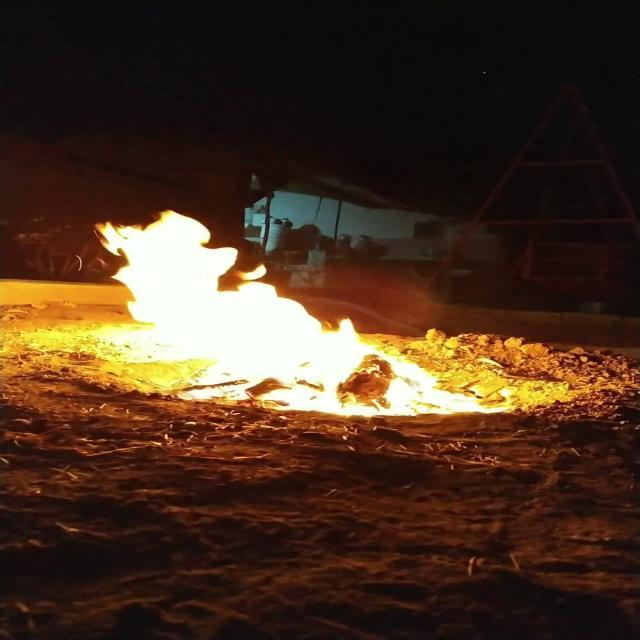Fire: (65, 206, 472, 414)
